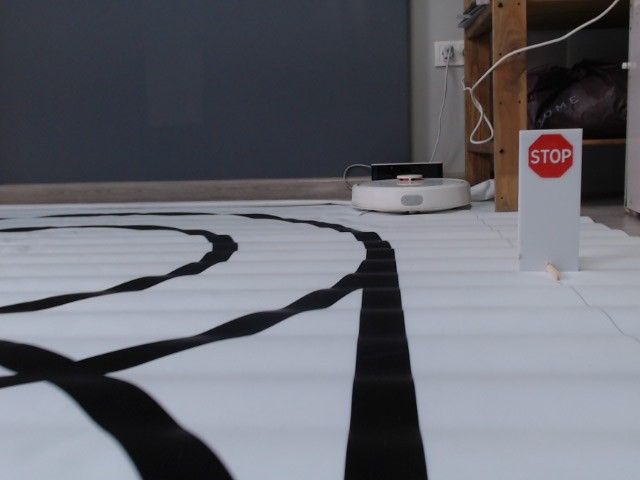Stop: (527, 133, 575, 181)
